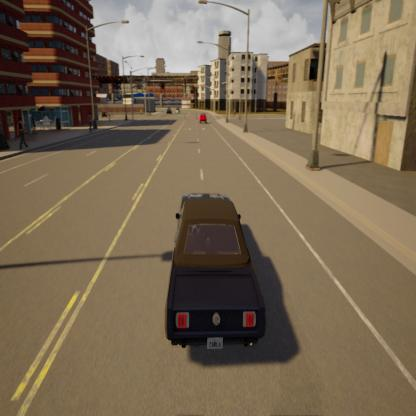Cars: (162, 180, 272, 364), (194, 111, 210, 130), (165, 107, 173, 118), (175, 107, 181, 120)
Pedestrian: (17, 112, 30, 154), (84, 112, 96, 135), (107, 111, 112, 129), (139, 108, 144, 122)
